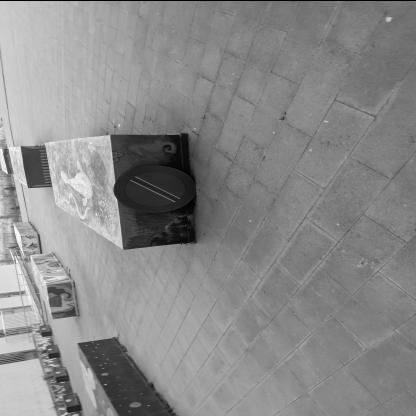No Waiting: (115, 166, 197, 214)
